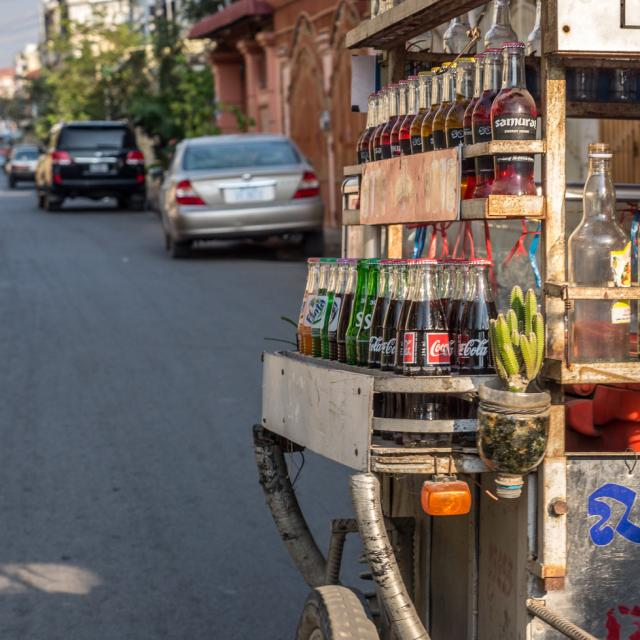car: (141, 127, 345, 261), (37, 114, 140, 209)
